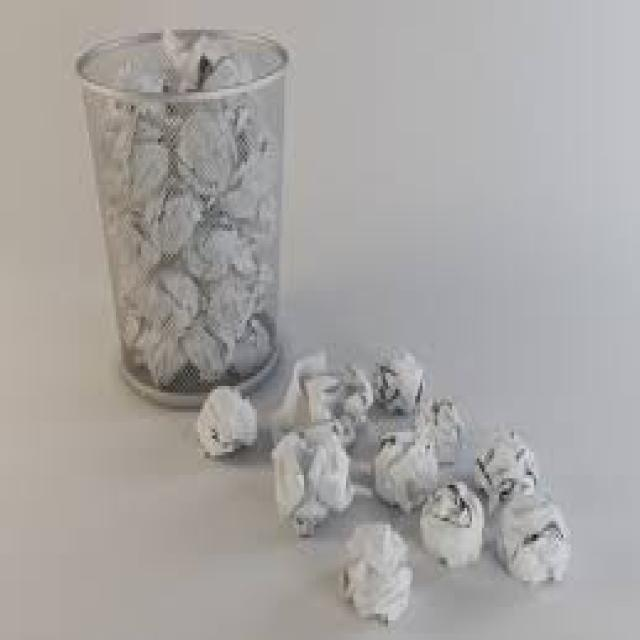paper: (262, 419, 353, 534), (339, 515, 410, 620), (287, 350, 371, 436), (497, 495, 568, 581), (415, 475, 482, 564), (475, 422, 537, 515), (374, 426, 438, 515), (196, 386, 260, 459), (185, 208, 247, 280), (111, 60, 166, 139), (175, 113, 230, 192), (143, 185, 198, 261), (166, 23, 223, 89), (368, 343, 423, 409), (413, 389, 462, 462), (203, 264, 252, 336), (124, 135, 168, 208), (148, 267, 198, 330), (235, 122, 274, 198), (210, 56, 252, 116), (233, 313, 275, 373), (136, 333, 185, 383), (185, 327, 225, 383), (116, 238, 148, 294), (250, 185, 274, 247), (119, 291, 146, 337)
